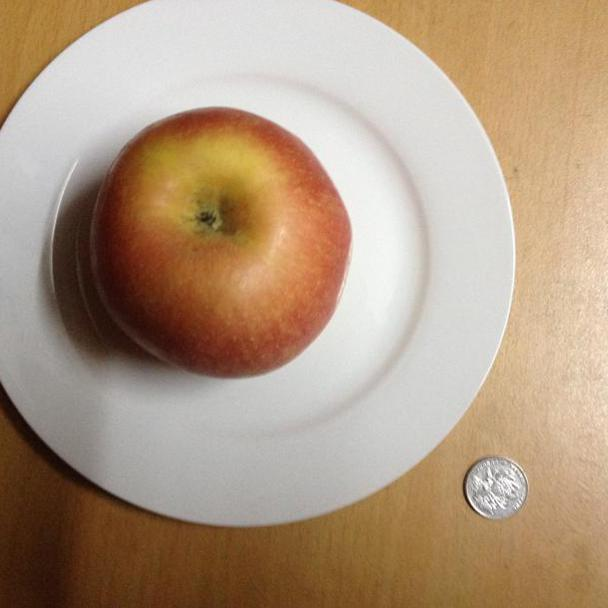apple: (89, 106, 352, 379)
